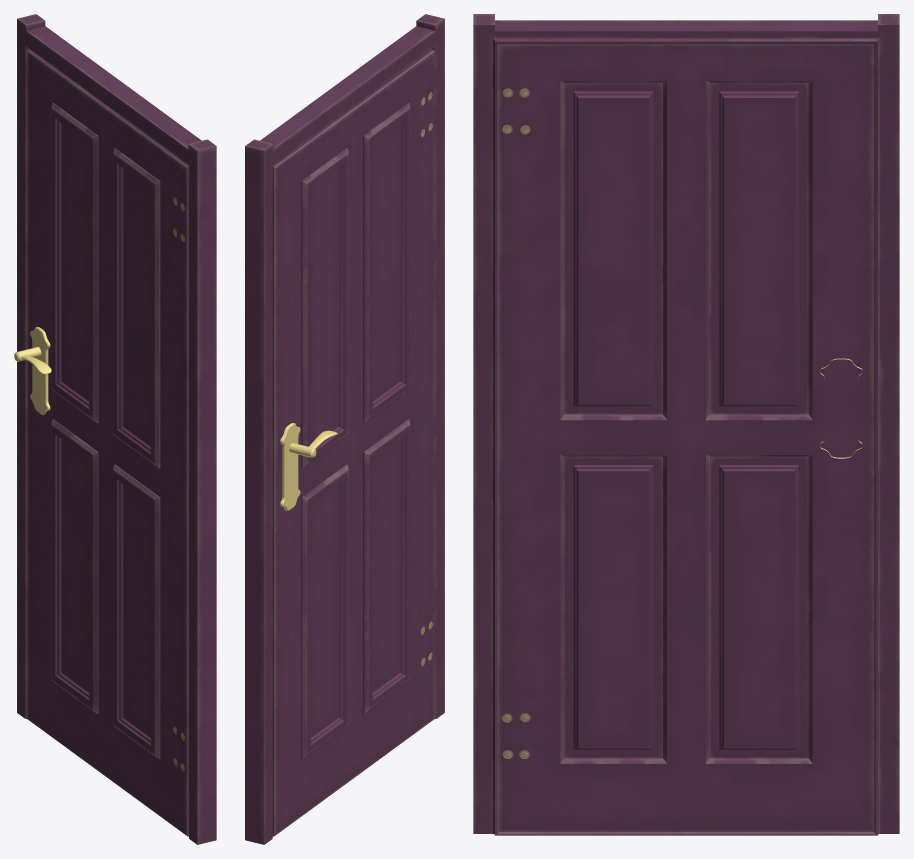
File: hoschu_door.glb
3 renders of one model, left to right at view 1: azimuth 30°, elevation 25°; view 2: azimuth 150°, elevation 25°; view 3: azimuth 270°, elevation 25°, orthographic. The views are drawn at different scales.
Parts seen in each view (by area): view 1: Door_Default_0; view 2: Door_Default_0; view 3: Door_Default_0.
Boxes of the visible parts, box(x1,y1,x2,y2) form: Door_Default_0: box(14, 14, 216, 844); Door_Default_0: box(245, 14, 444, 844); Door_Default_0: box(473, 14, 899, 835).
Bounding box in the file's own units: 14.01 × 207 × 97.42.
1 material, 1 textured.
